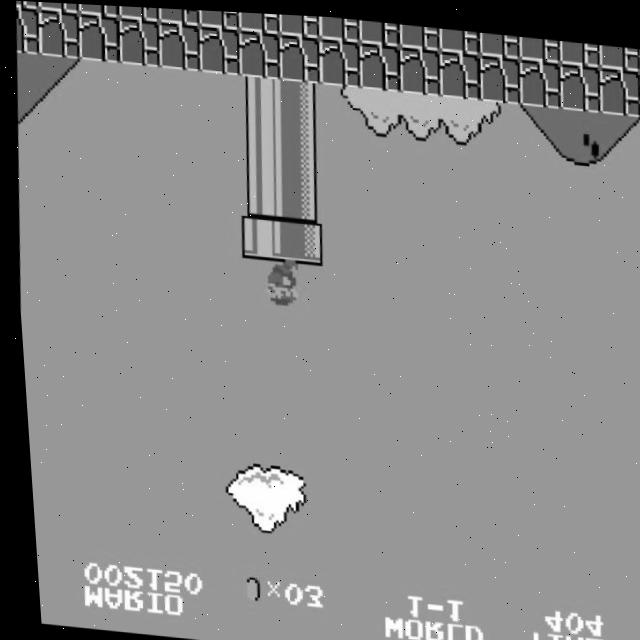11- little_mario: (251, 255, 299, 307)
14- pipe: (236, 118, 282, 168), (236, 73, 282, 123), (276, 77, 322, 127), (276, 168, 322, 217), (276, 123, 322, 172), (237, 165, 282, 214)
15- pipe_head: (277, 213, 322, 263), (237, 210, 282, 259)
17- undestructible_block: (116, 16, 162, 66), (156, 20, 202, 70), (196, 23, 242, 73), (436, 46, 482, 96), (76, 13, 122, 62), (236, 28, 282, 77), (36, 9, 81, 59), (277, 31, 322, 81), (317, 35, 362, 85), (357, 38, 402, 88), (397, 42, 442, 92), (477, 50, 522, 100), (517, 53, 562, 103), (557, 57, 602, 107), (597, 61, 640, 110), (14, 7, 41, 55), (358, 16, 401, 43), (438, 24, 481, 51), (478, 27, 521, 54), (518, 31, 561, 58), (598, 38, 640, 65), (317, 13, 360, 39), (398, 20, 441, 46), (558, 35, 601, 61), (277, 11, 320, 35), (238, 10, 281, 31), (198, 8, 241, 28), (158, 6, 201, 24), (118, 5, 161, 21), (78, 3, 121, 17), (38, 2, 81, 13), (16, 1, 39, 10), (637, 65, 640, 112)
